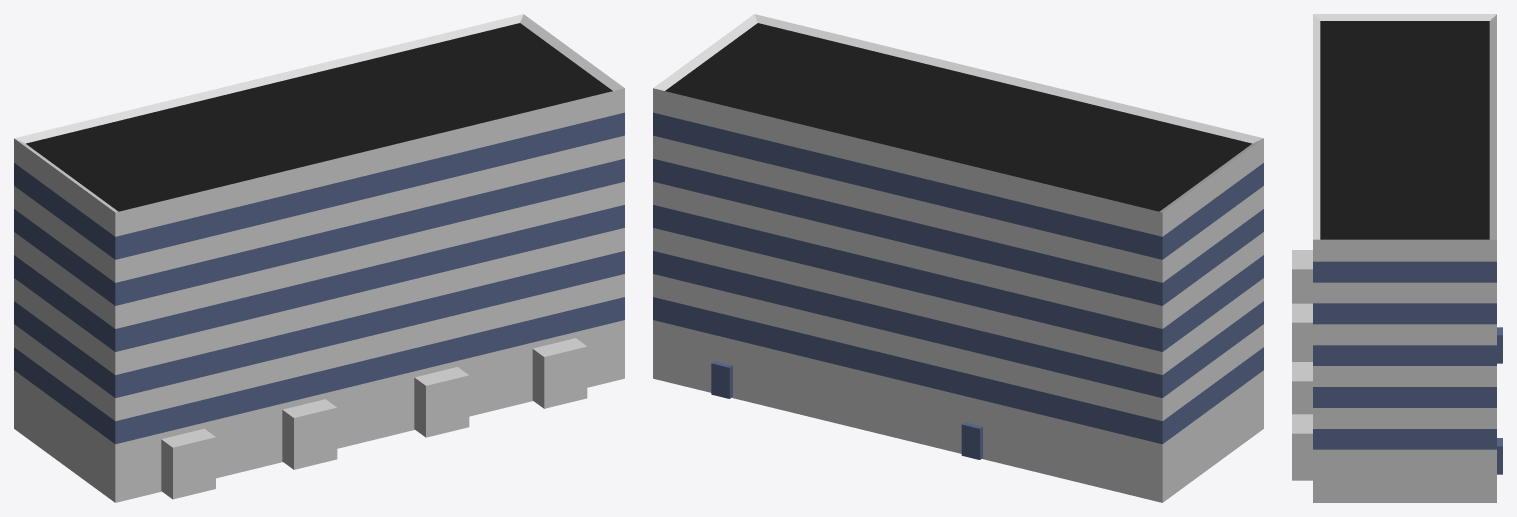
Rendered from Block1.fbx.
3 renders of one model, left to right at view 1: azimuth 30°, elevation 25°; view 2: azimuth 150°, elevation 25°; view 3: azimuth 270°, elevation 25°, orthographic. The views are drawn at different scales.
Parts seen in each view (by area): view 1: Cube.320; view 2: Cube.320; view 3: Cube.320.
Boxes of the visible parts, x1=… form: Cube.320: x1=14, y1=14, x2=624, y2=502; Cube.320: x1=653, y1=14, x2=1263, y2=502; Cube.320: x1=1292, y1=14, x2=1502, y2=502.
Size of the model in its own units: 5833 by 3177 by 2303.
